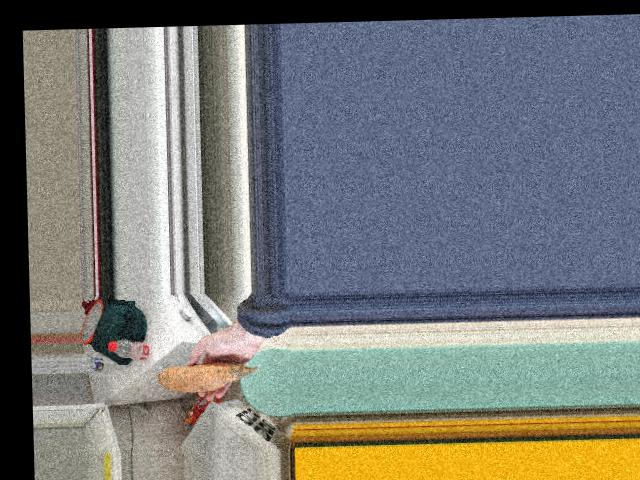sweet_potato: (157, 359, 253, 392)
